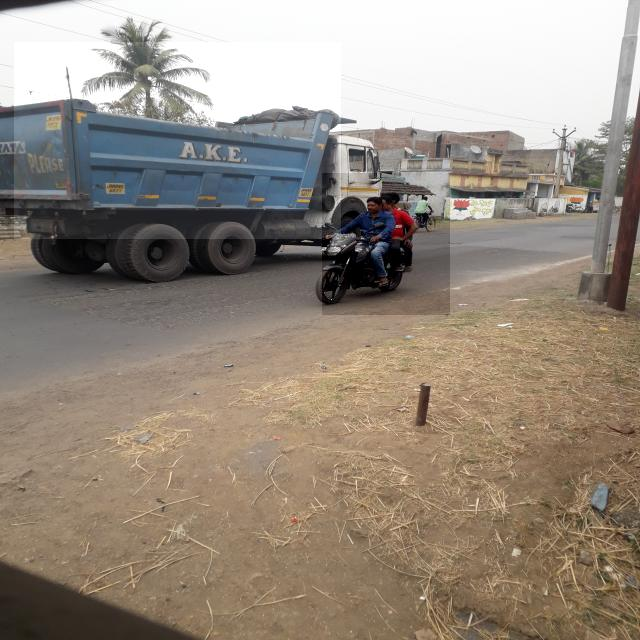Bike: (322, 174, 450, 316)
Truck: (14, 42, 341, 239)
